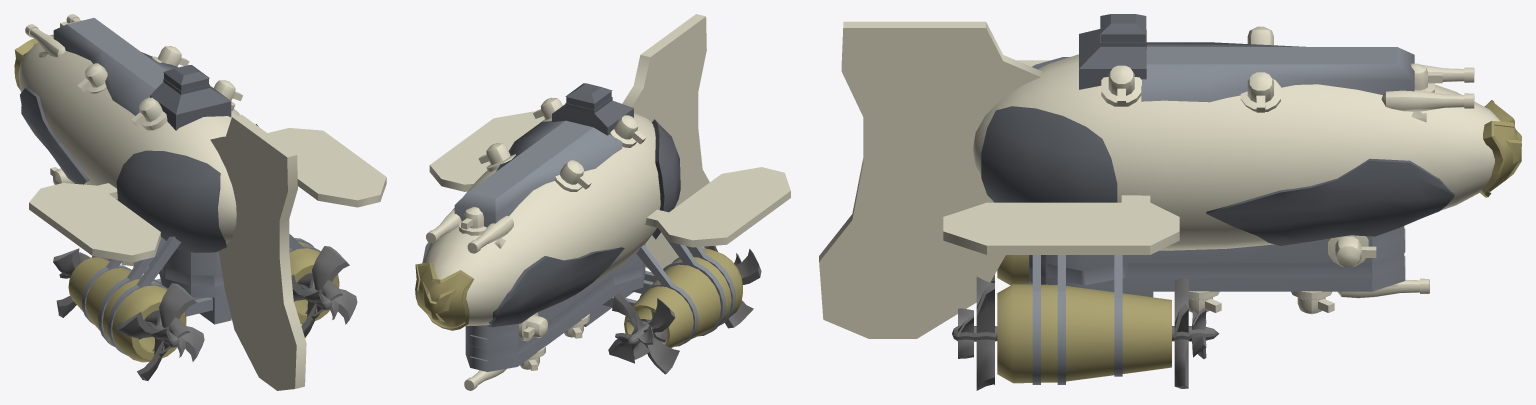
Rendered from Airship_FBX.fbx.
3 views of the same model, side by side, from view 1: azimuth 30°, elevation 25°; view 2: azimuth 150°, elevation 25°; view 3: azimuth 270°, elevation 25° (orthographic). The views are drawn at different scales.
Visible parts, largest first — view 1: pCube1, Airship_corpus, Wing2, Bugshield2, Prop2, Upper_Deck, Turbine, Bridge1, pPipe7, Underdeck, Turret12, Turbine1 (+2 smaller); view 2: Airship_corpus, Wing2, pCube1, Upper_Deck, Bugshield2, Underdeck, Turbine, Turret12, Prop2, pPipe7, Wappen, Bridge1 (+1 smaller); view 3: pCube1, Airship_corpus, Bugshield2, Underdeck, Turbine1, Upper_Deck, Wing2, Turret12, Prop2, Bridge1, pPipe7, pCube5 (+2 smaller).
Part boxes in pixels (left/top/right/bottom): pCube1: left=210, top=114, right=306, bottom=390; Airship_corpus: left=18, top=42, right=239, bottom=244; Wing2: left=29, top=128, right=386, bottom=262; Bugshield2: left=20, top=87, right=258, bottom=252; Prop2: left=53, top=246, right=357, bottom=380; Upper_Deck: left=53, top=18, right=178, bottom=115; Turbine: left=68, top=257, right=186, bottom=362; Bridge1: left=150, top=65, right=231, bottom=130; pPipe7: left=82, top=234, right=320, bottom=355; Underdeck: left=149, top=249, right=231, bottom=324; Turret12: left=50, top=21, right=243, bottom=273; Turbine1: left=289, top=241, right=339, bottom=324; Airship_corpus: left=423, top=113, right=660, bottom=325; Wing2: left=429, top=111, right=790, bottom=247; pCube1: left=622, top=14, right=709, bottom=268; Upper_Deck: left=454, top=120, right=622, bottom=227; Bugshield2: left=422, top=119, right=680, bottom=327; Underdeck: left=465, top=244, right=645, bottom=371; Turbine: left=624, top=248, right=742, bottom=347; Turret12: left=458, top=97, right=645, bottom=370; Prop2: left=608, top=245, right=761, bottom=374; pPipe7: left=602, top=232, right=735, bottom=346; Wappen: left=415, top=262, right=473, bottom=330; Bridge1: left=552, top=83, right=633, bottom=135; pCube1: left=819, top=21, right=1042, bottom=338; Airship_corpus: left=973, top=54, right=1500, bottom=250; Bugshield2: left=981, top=57, right=1454, bottom=245; Underdeck: left=1029, top=226, right=1405, bottom=297; Turbine1: left=997, top=284, right=1171, bottom=383; Upper_Deck: left=1141, top=42, right=1414, bottom=102; Wing2: left=943, top=60, right=1179, bottom=254; Turret12: left=1101, top=26, right=1442, bottom=314; Prop2: left=952, top=274, right=1219, bottom=390; Bridge1: left=1079, top=14, right=1146, bottom=89; pPipe7: left=1032, top=255, right=1122, bottom=384; pCube5: left=1337, top=65, right=1474, bottom=298.
Bounding box in the file's own units: 42.89 × 35.12 × 68.67.
